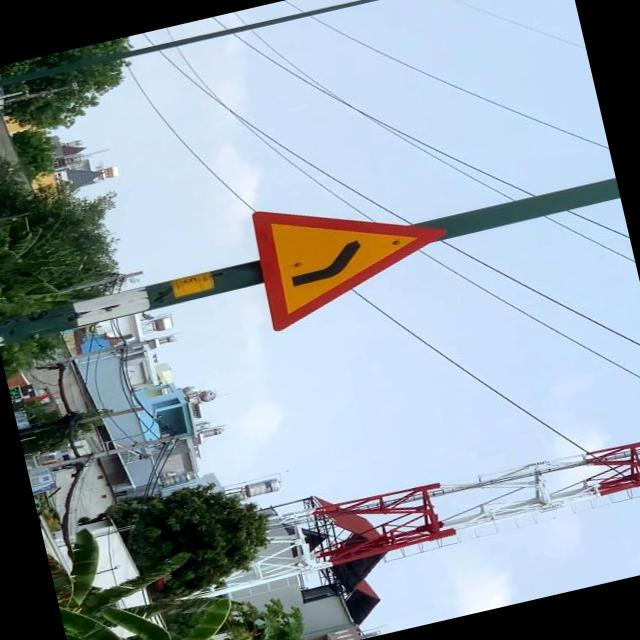W-201a: (246, 170, 459, 334)
